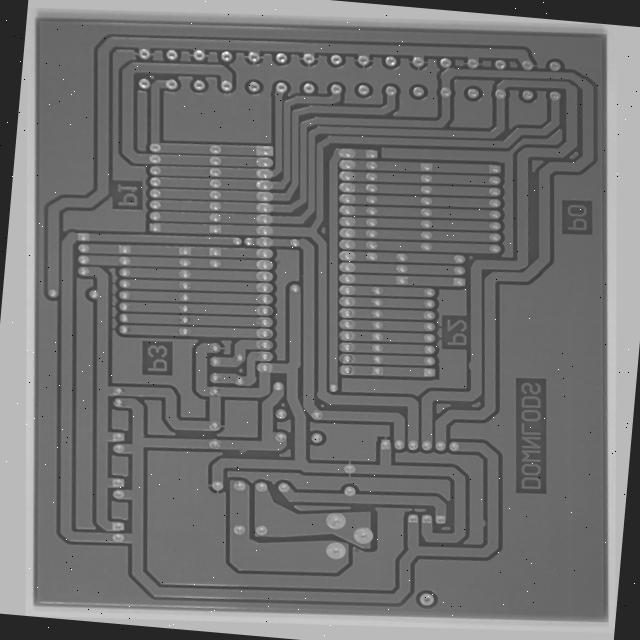spur: (470, 368, 486, 387), (466, 534, 483, 551), (212, 445, 234, 457)
